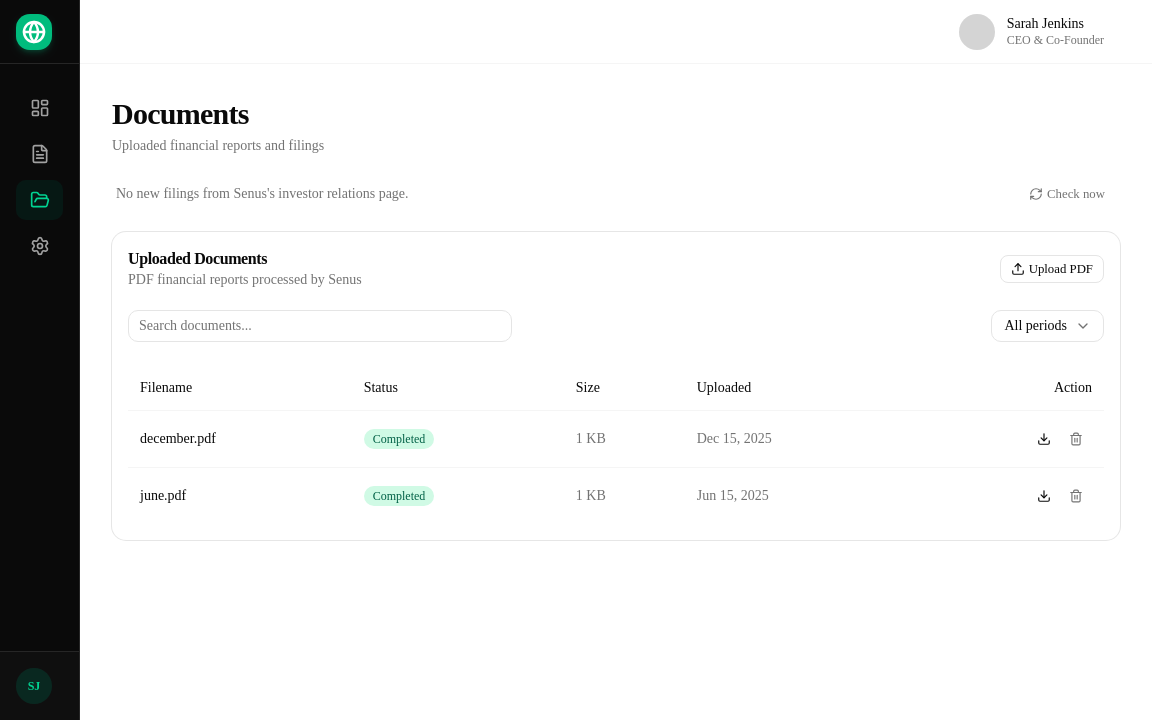
Test case: DocumentsPage › filters by period (year/month of created_at)
The image size is (1152, 720).
Expected: the text "december.pdf" is shown, [128,410,352,467]
Click the dropdown named "Filter by period". click: (1048, 326)
box: [991,310,1104,342]
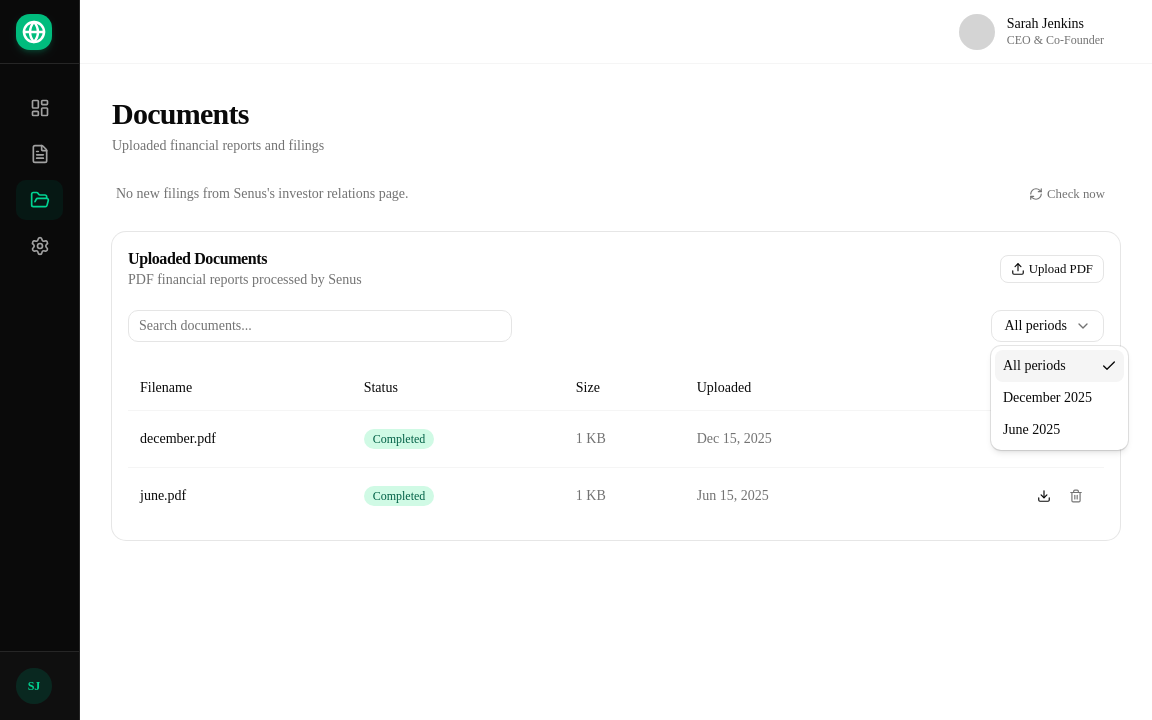
Click the option "December 2025". click: (1048, 398)
box: [1003,390,1092,405]
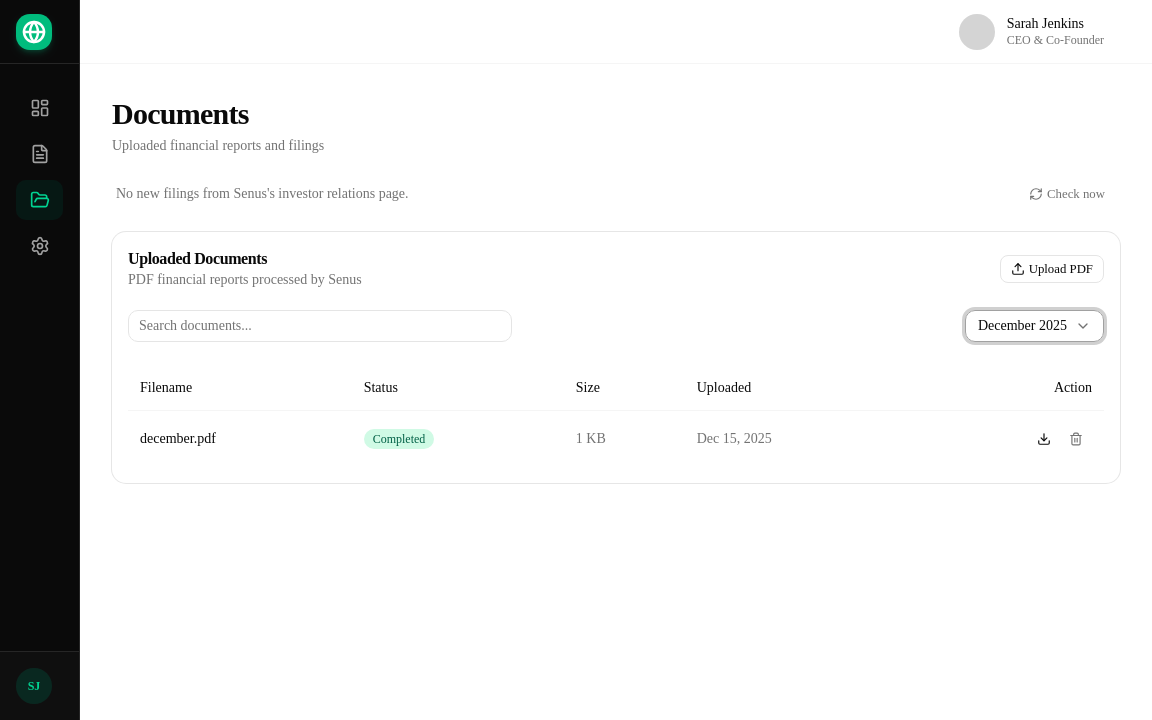
Expected: the text "december.pdf" is shown, [128,410,352,466]
Result: the text "june.pdf" is gone
